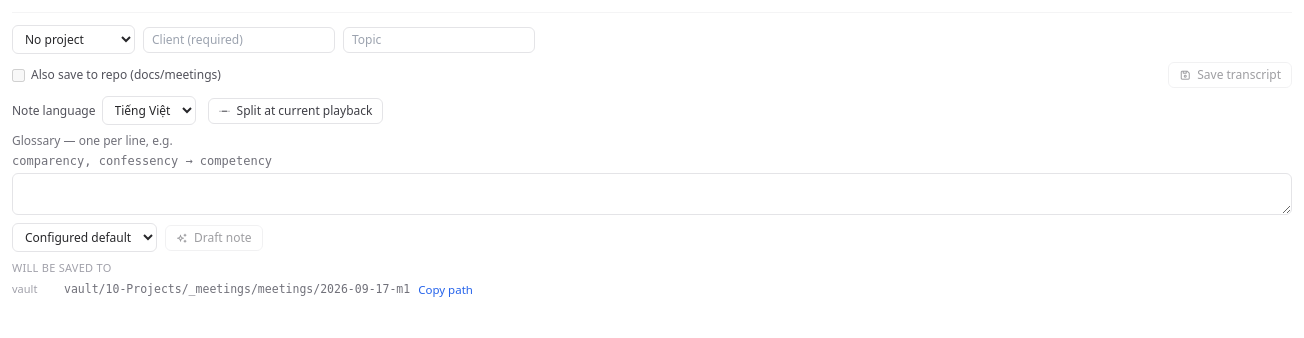
Test case: after the save › replaces the prediction with the real absolute paths the adapter reported
Select "Mantu" in the dropdown named "Project or workspace" at [74, 40], box [12,25,135,54]
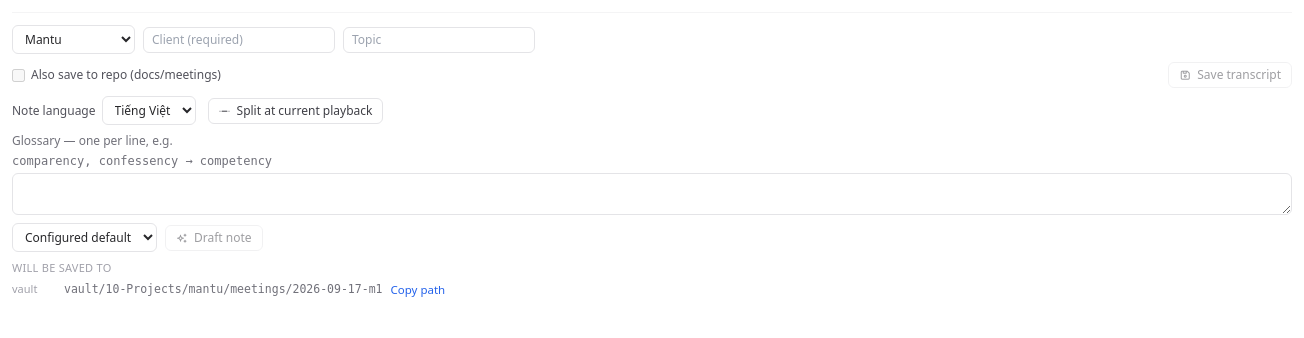
Type "Chị Kate" into the field labelled "Client".
click(239, 40); type("Chị Kate")  # box [143,26,335,52]
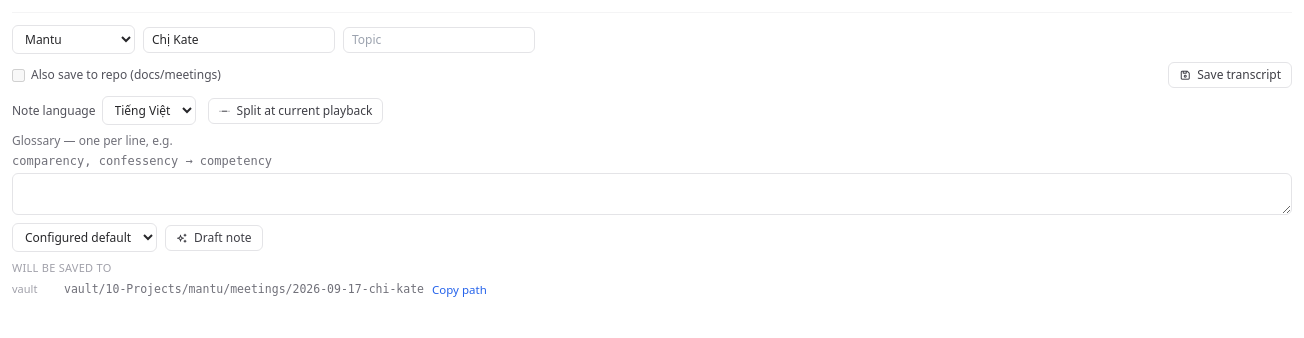
Click the button "Save transcript".
click(1230, 75)  # box [1168,62,1292,88]
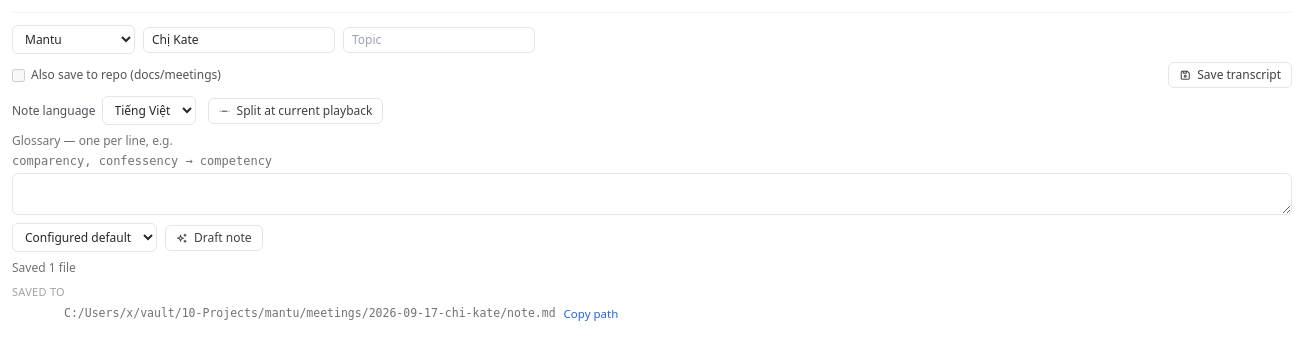
Now the text "Saved 1 file" is shown, box [12,259,76,276]
Now the element with test id "destinations" shows "C:/Users/x/vault/10-Projects/mantu/meetings/2026-09-17-chi-kate/note.md", box [64,306,556,320]
Now the text with test id "destinations" no longer shows "Will be saved to"
